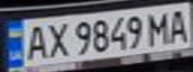4: (109, 14, 130, 52)
8: (90, 16, 112, 53)
9: (69, 17, 93, 56), (124, 12, 148, 48)
A: (21, 21, 51, 62), (163, 6, 190, 44)
M: (145, 9, 172, 46)
X: (42, 19, 72, 60)
